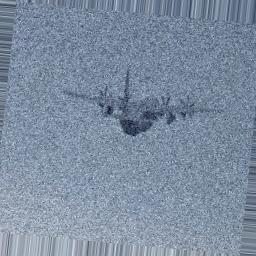Airplane: (64, 68, 226, 137)
